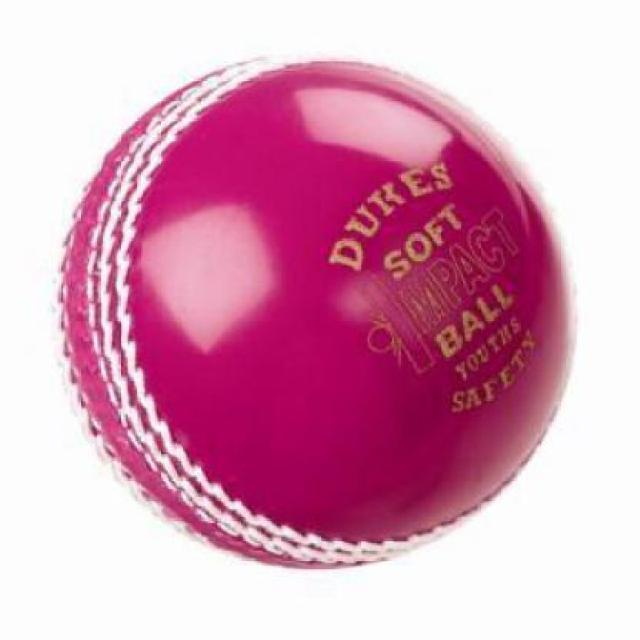-: (81, 84, 640, 566)
